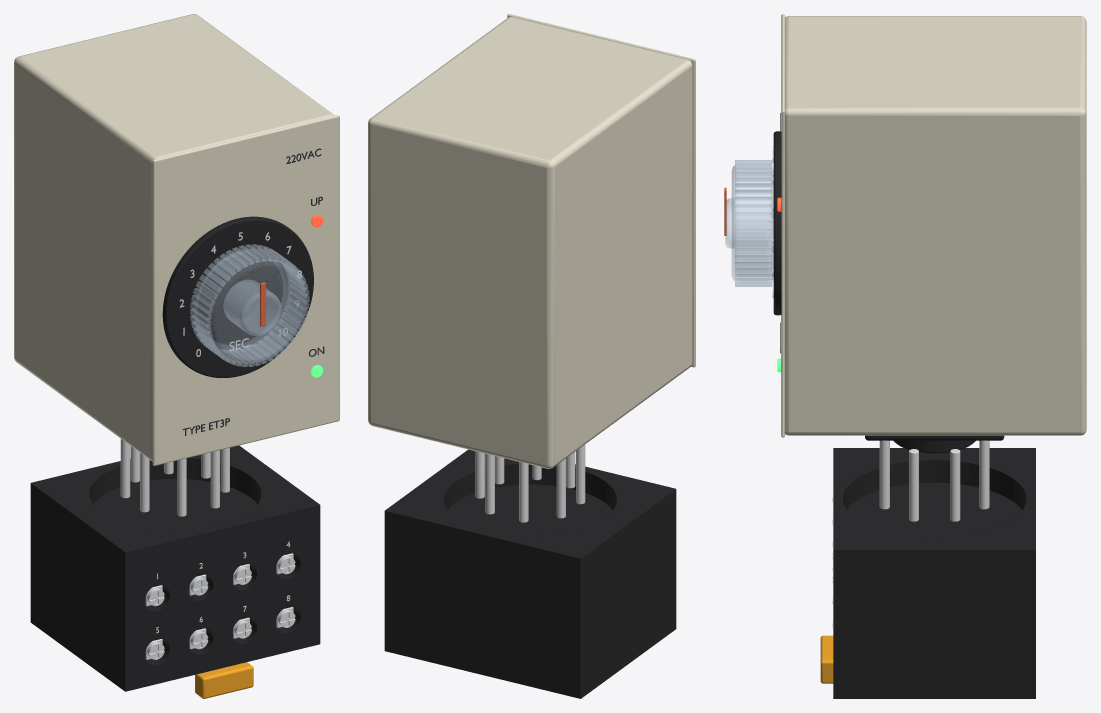
The model's file is timer_st3p.glb.
The picture shows the model from 3 angles, left to right: view 1: azimuth 30°, elevation 25°; view 2: azimuth 150°, elevation 25°; view 3: azimuth 270°, elevation 25°; orthographic projection. The views are drawn at different scales.
Parts seen in each view (by area): view 1: case, socket, dial, base; view 2: case, socket, base; view 3: case, socket, dial, base.
Part boxes in pixels (<box>): case: <box>14,14,339,465</box>; socket: <box>30,445,320,698</box>; dial: <box>162,216,313,377</box>; base: <box>120,439,229,516</box>; case: <box>368,14,695,468</box>; socket: <box>384,449,676,698</box>; base: <box>475,444,585,522</box>; case: <box>777,14,1086,437</box>; socket: <box>820,448,1035,698</box>; dial: <box>724,131,781,315</box>; base: <box>865,435,1004,521</box>.
Size of the model in its own units: 0.038 by 0.106 by 0.0572.
